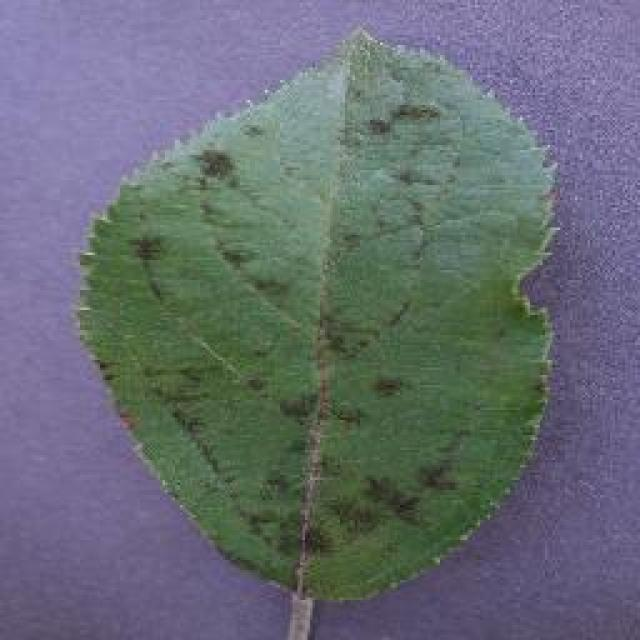Apple___Apple_scab: (73, 20, 565, 604)
